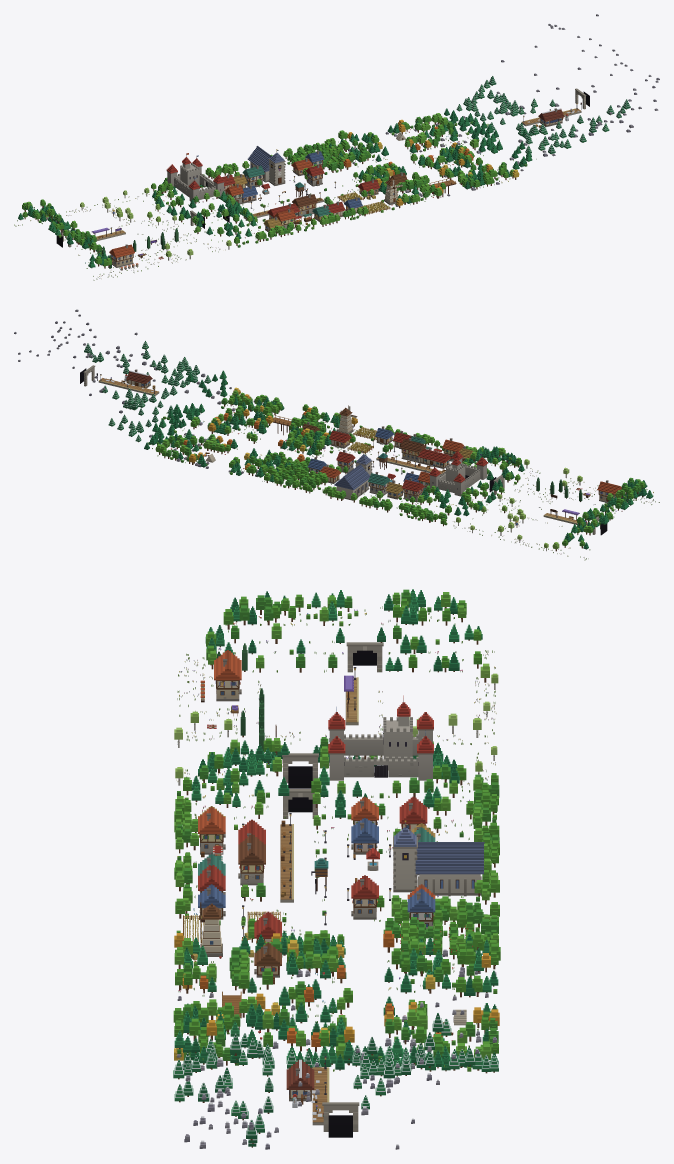
File: props.glb
3 views of the same model, one above another, from view 1: azimuth 30°, elevation 25°; view 2: azimuth 150°, elevation 25°; view 3: azimuth 270°, elevation 25° (orthographic). The views are drawn at different scales.
Visible parts, largest first — view 1: ReferenceBuildingsTreesFlowers; view 2: ReferenceBuildingsTreesFlowers; view 3: ReferenceBuildingsTreesFlowers.
Part boxes in pixels (x1,y1,x2,y2): ReferenceBuildingsTreesFlowers: (14, 14, 659, 280); ReferenceBuildingsTreesFlowers: (14, 309, 659, 560); ReferenceBuildingsTreesFlowers: (173, 589, 500, 1149).
Size of the model in its own units: 168 by 25.48 by 40.51.
